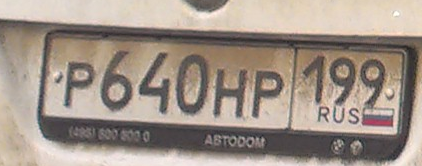character: (173, 49, 212, 118), (135, 51, 173, 115), (98, 50, 135, 115), (214, 67, 248, 121), (251, 69, 284, 122), (63, 61, 96, 112), (329, 56, 356, 108), (302, 53, 327, 107), (359, 56, 385, 106)
